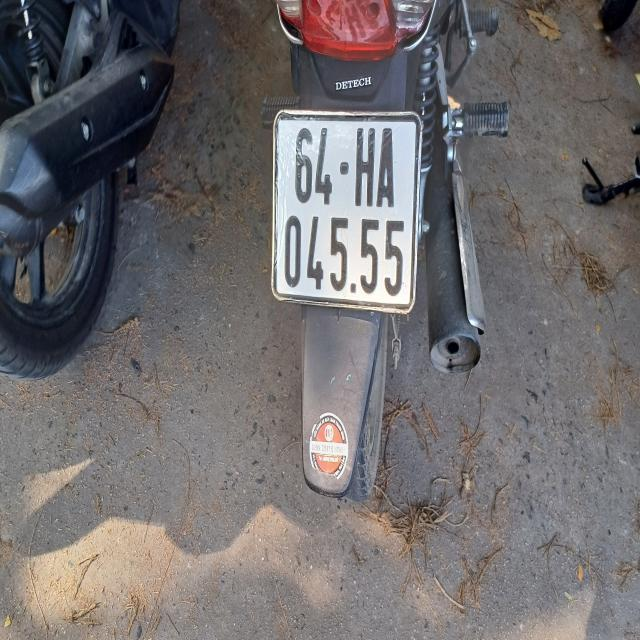0: (283, 213, 304, 288)
4: (315, 128, 333, 205), (306, 216, 324, 292)
5: (384, 216, 406, 296), (329, 211, 348, 294), (360, 213, 379, 294)
6: (292, 127, 314, 202)
A: (376, 128, 397, 209)
H: (352, 126, 377, 205)
